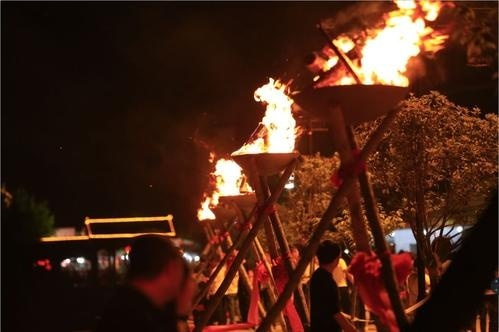fire: (315, 0, 448, 86), (230, 77, 301, 153), (197, 154, 252, 218)
